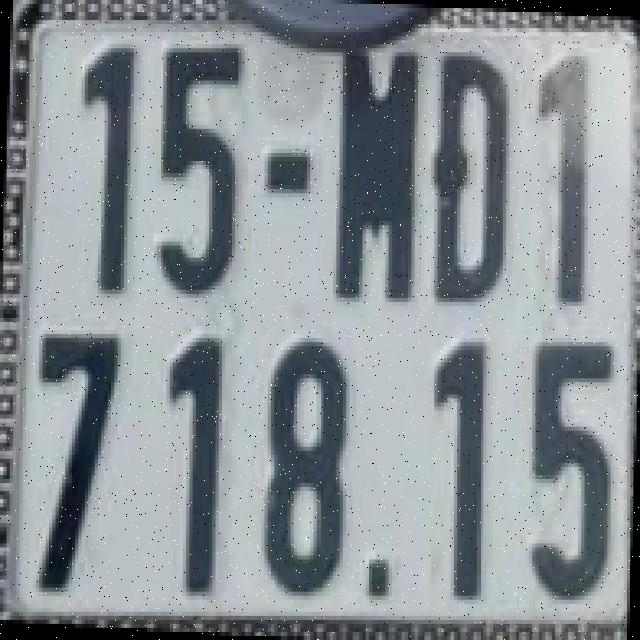1: (160, 326, 232, 600), (428, 332, 496, 602), (532, 48, 601, 306), (77, 36, 142, 294)
5: (528, 332, 616, 598), (153, 38, 245, 292)
7: (31, 318, 122, 596)
8: (260, 332, 351, 594)
D: (431, 52, 513, 306)
M: (332, 40, 419, 306)
